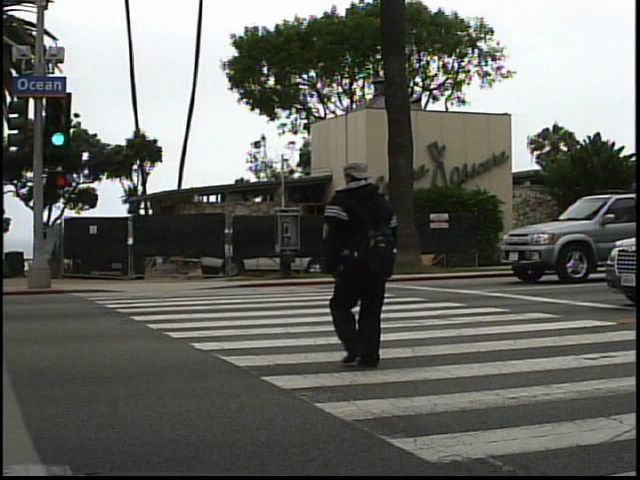person: (310, 149, 414, 379)
